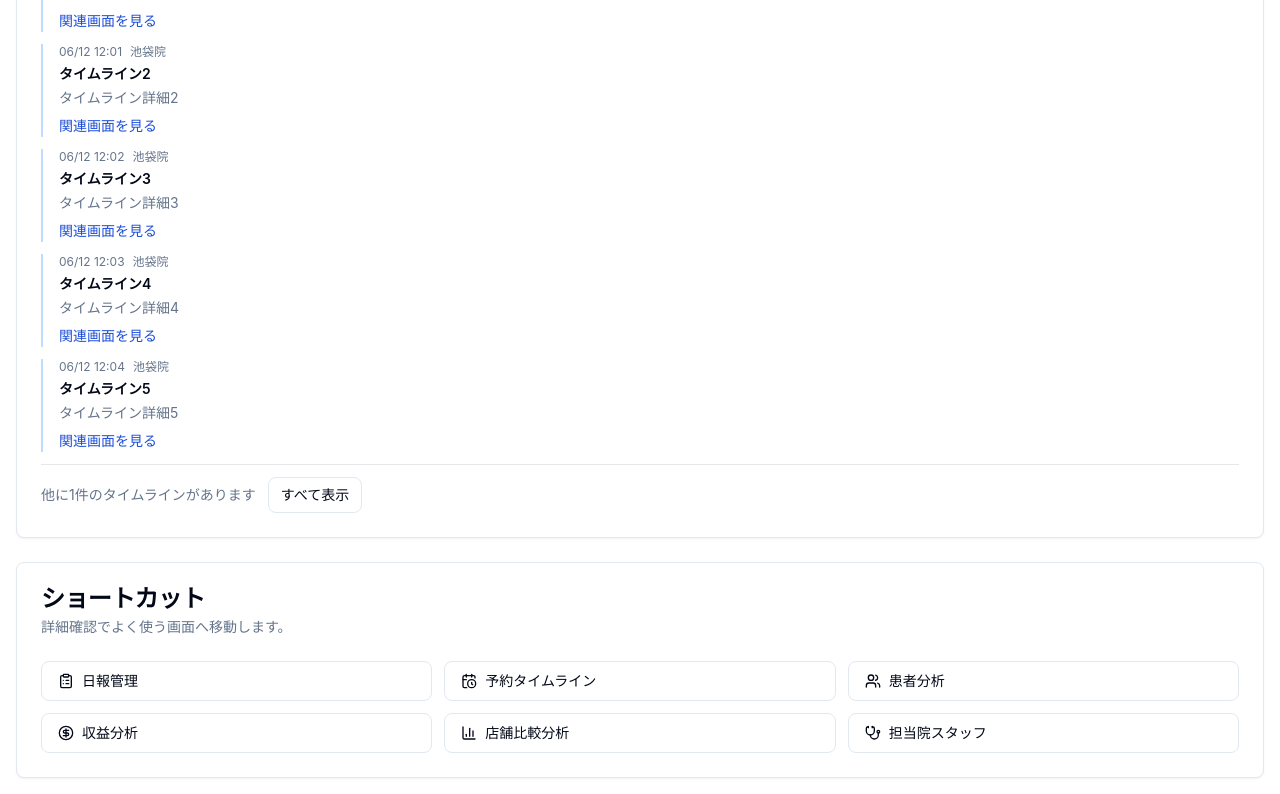
ManagerDashboard › shows remaining timeline count and expands timeline on demand
(page scrolled)
Expected: the text "タイムライン5" is shown, [59,380,151,397]
Expected: the text "タイムライン6" is not shown
Click the button "すべて表示" at (315, 495), box [268,477,362,513]
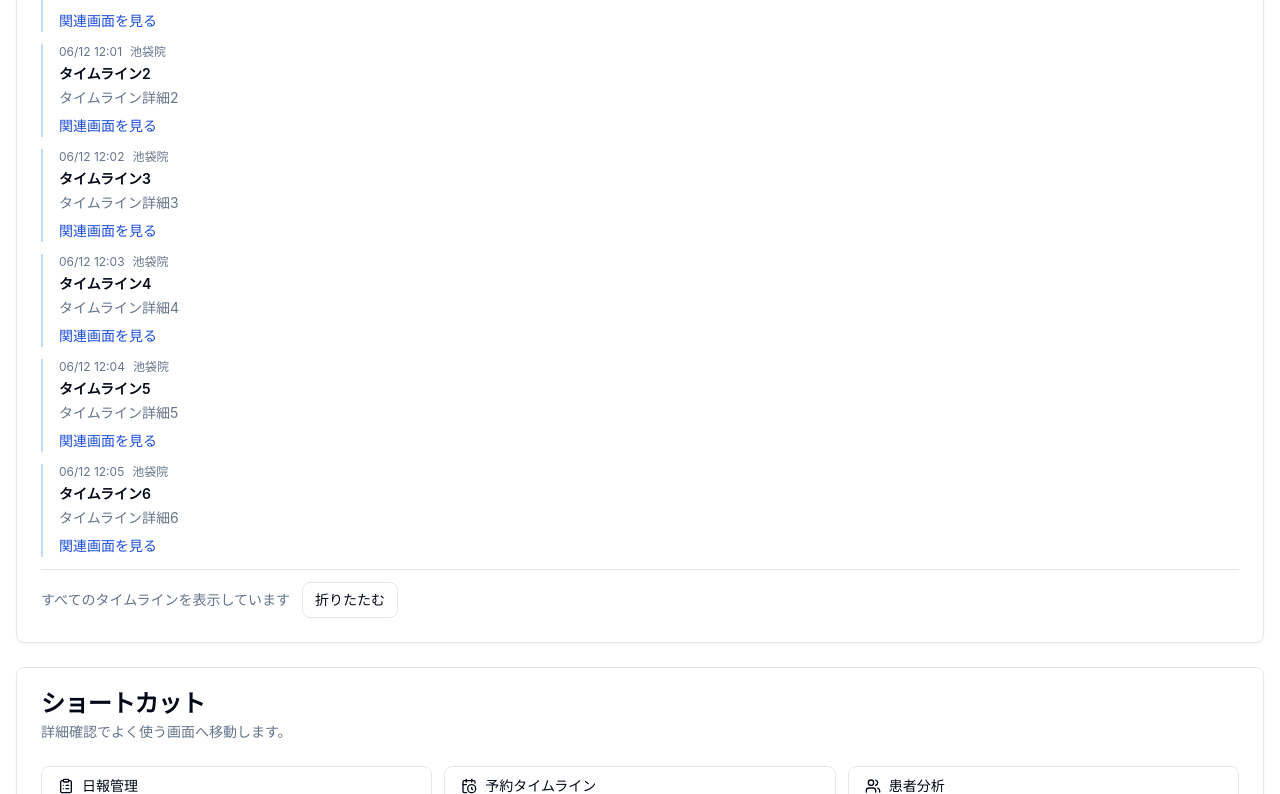
Expected: the text "タイムライン6" is shown, [59,485,151,502]
Expected: the text "すべてのタイムラインを表示しています" is shown, [41,590,290,610]
Expected: the button "折りたたむ" is shown, [302,582,398,618]
